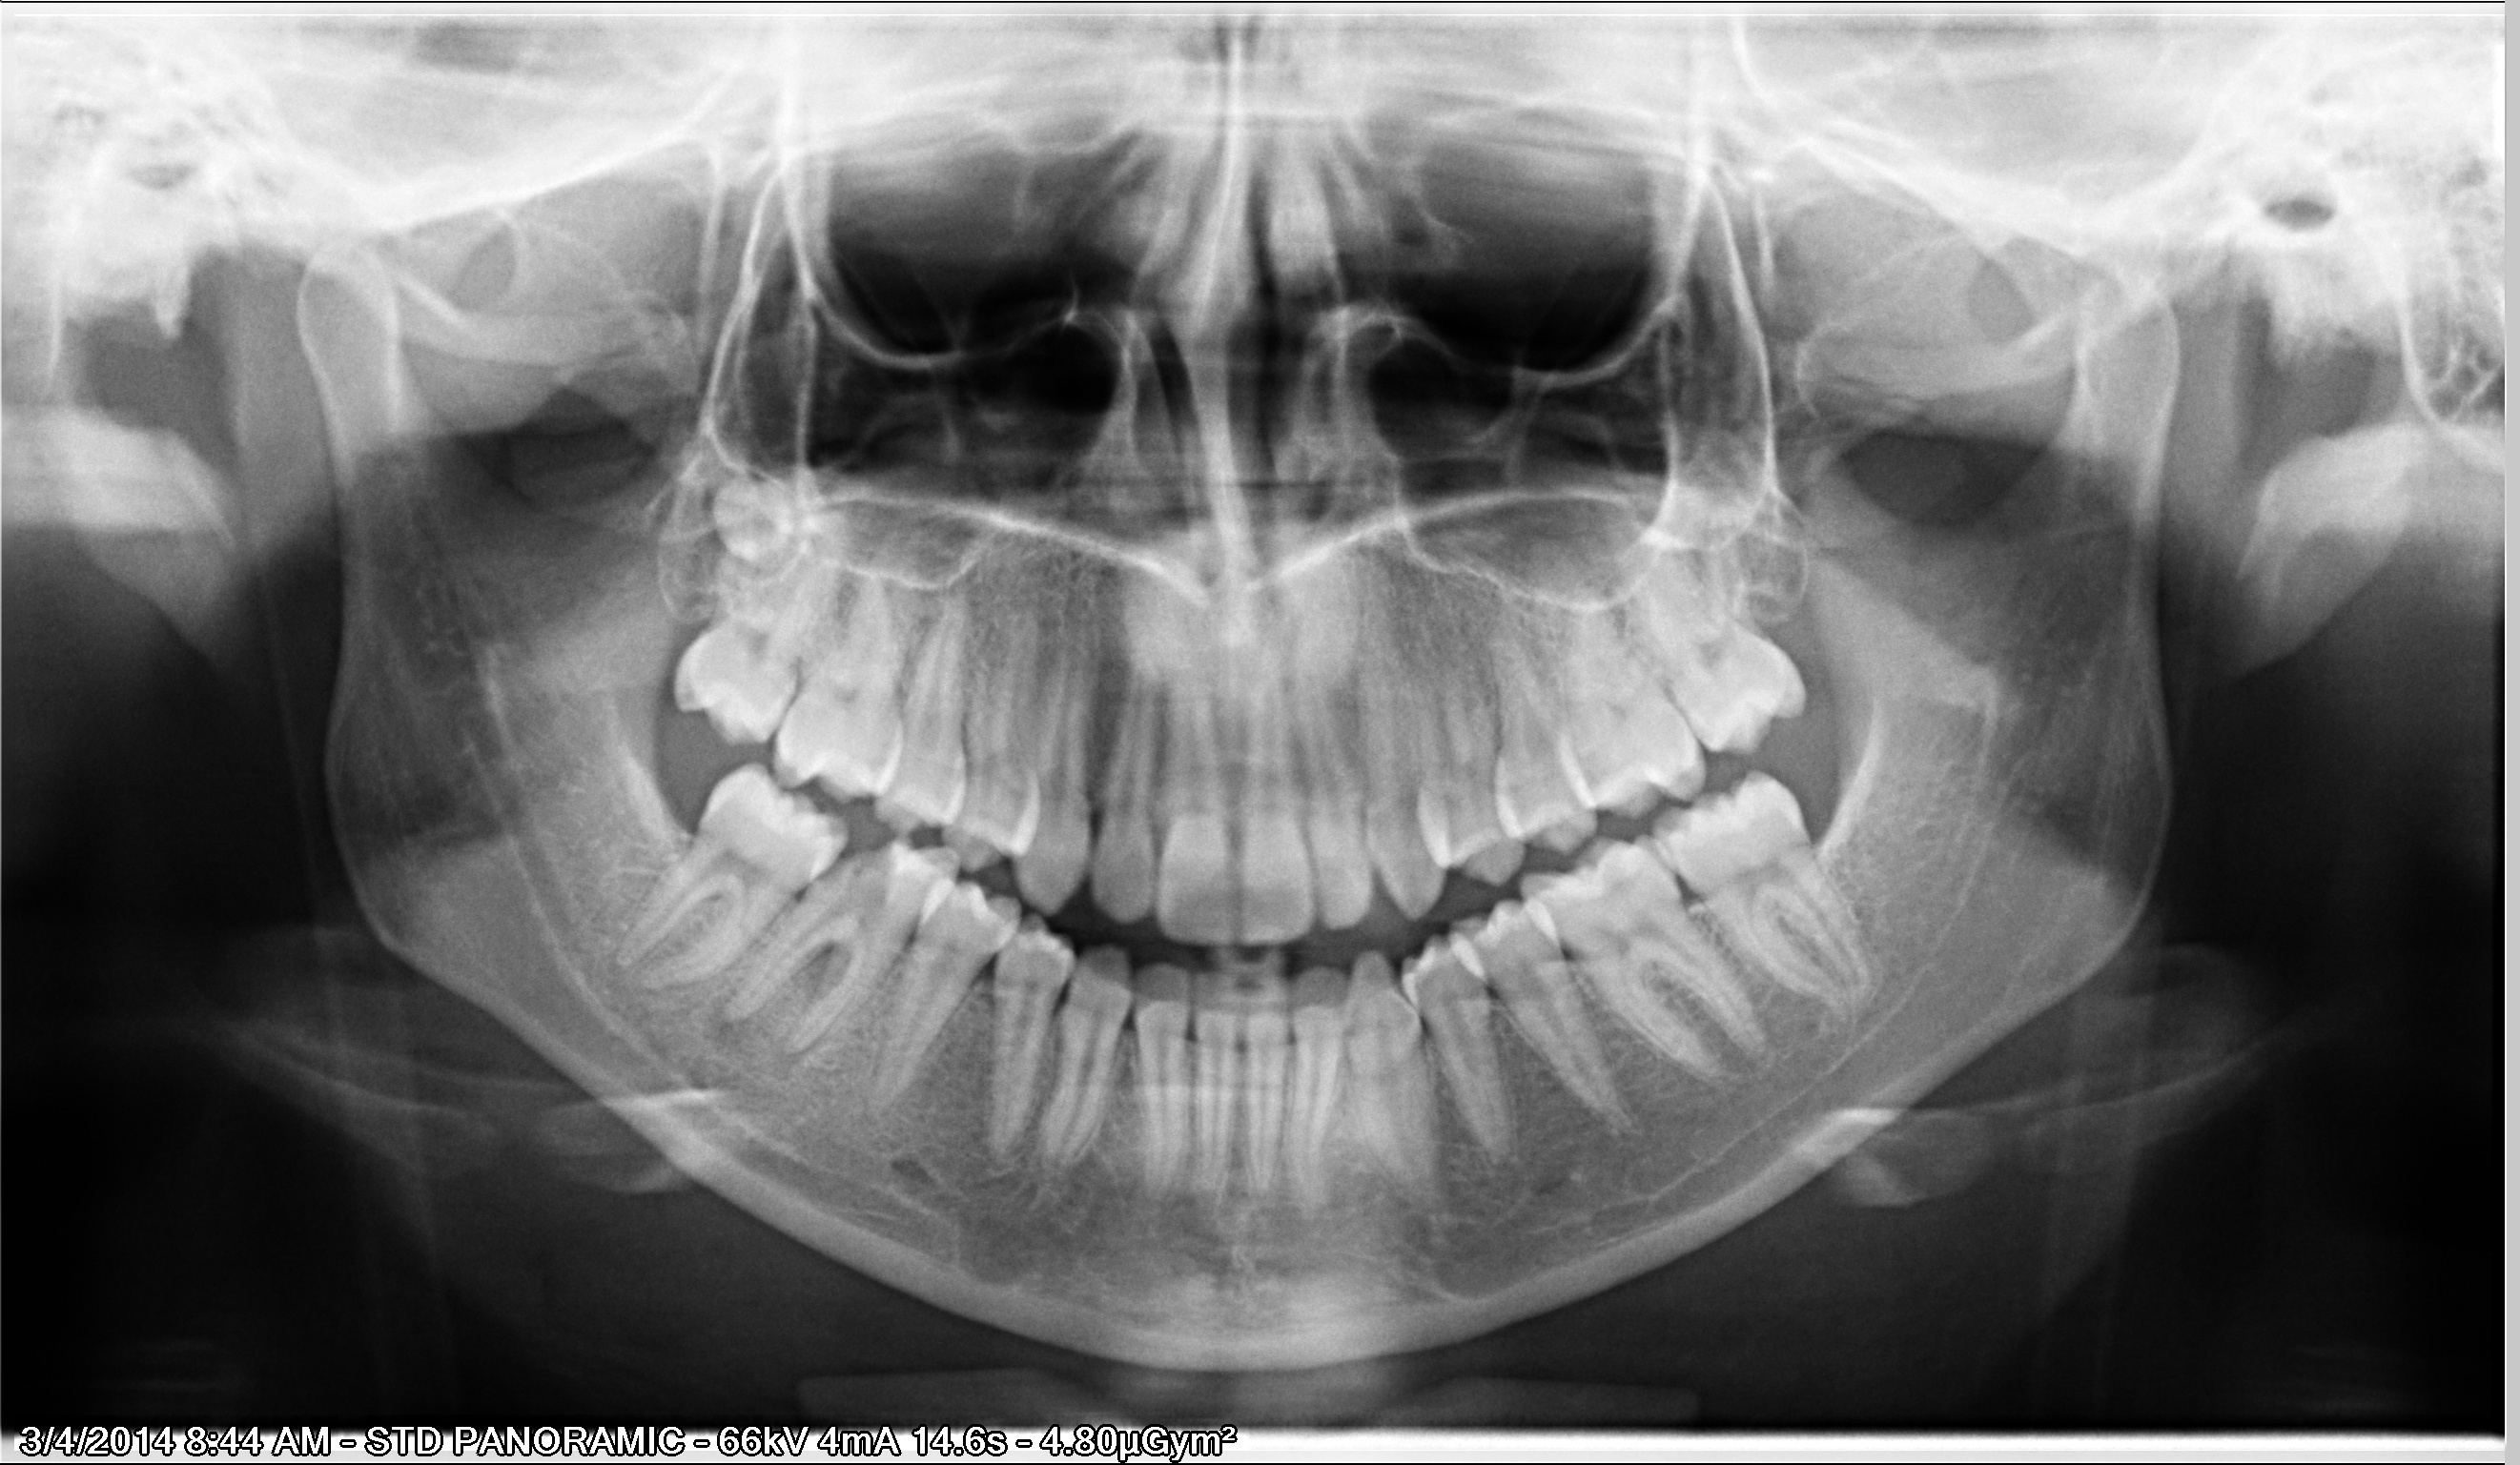API: (701, 987, 809, 1076)
CAR: (814, 837, 895, 895)
IMT: (712, 473, 793, 565)
